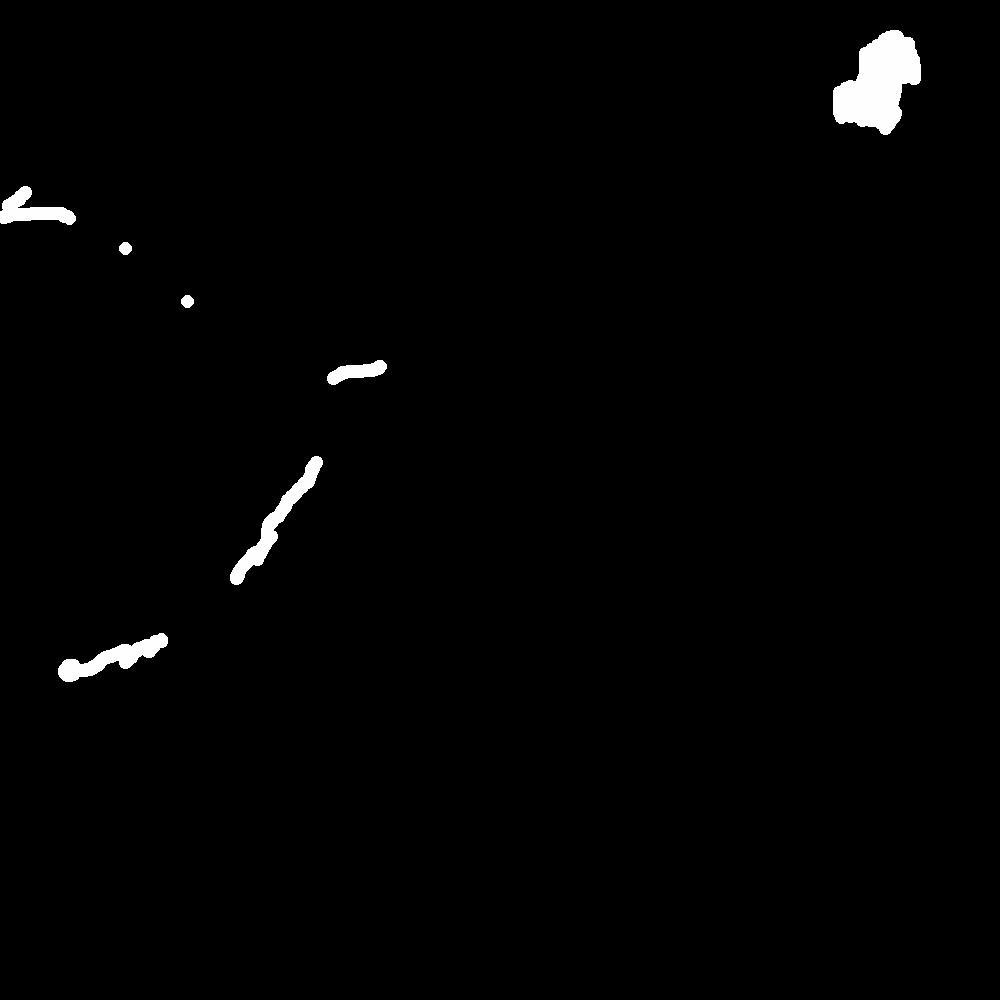illegal: (1, 188, 198, 305), (228, 445, 325, 590), (827, 32, 918, 136), (61, 630, 171, 681), (331, 365, 378, 383)
